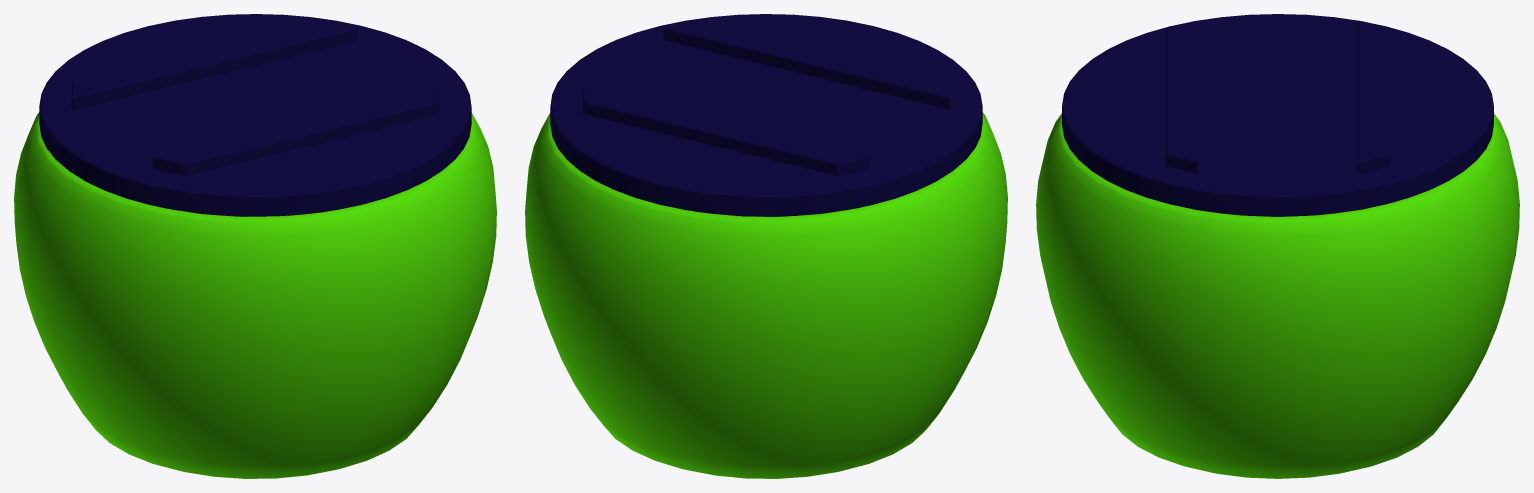
The model's file is Hibachi.fbx.
3 views of the same model, side by side, from view 1: azimuth 30°, elevation 25°; view 2: azimuth 150°, elevation 25°; view 3: azimuth 270°, elevation 25° (orthographic).
Parts seen in each view (by area): view 1: Hibachi; view 2: Hibachi; view 3: Hibachi.
Part boxes in pixels (bbox=[...]): Hibachi: bbox=[14, 14, 496, 478]; Hibachi: bbox=[525, 14, 1007, 478]; Hibachi: bbox=[1036, 14, 1519, 478].
Size of the model in its own units: 38.15 by 27.85 by 38.15.
